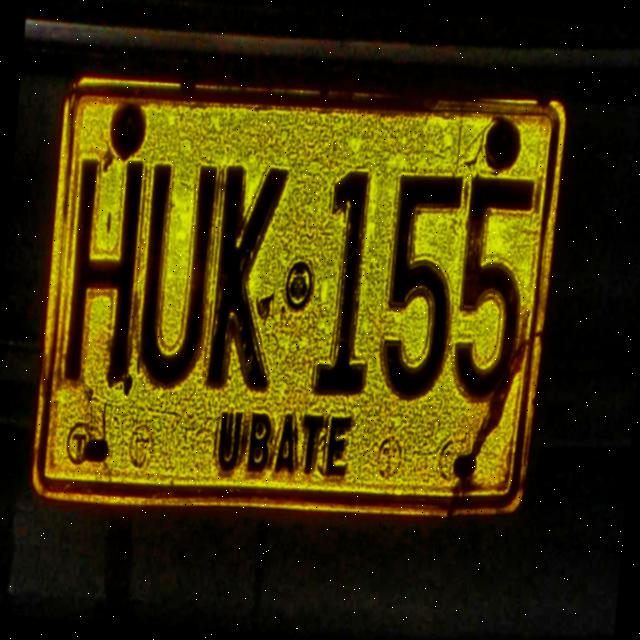plate: (31, 77, 566, 513)
